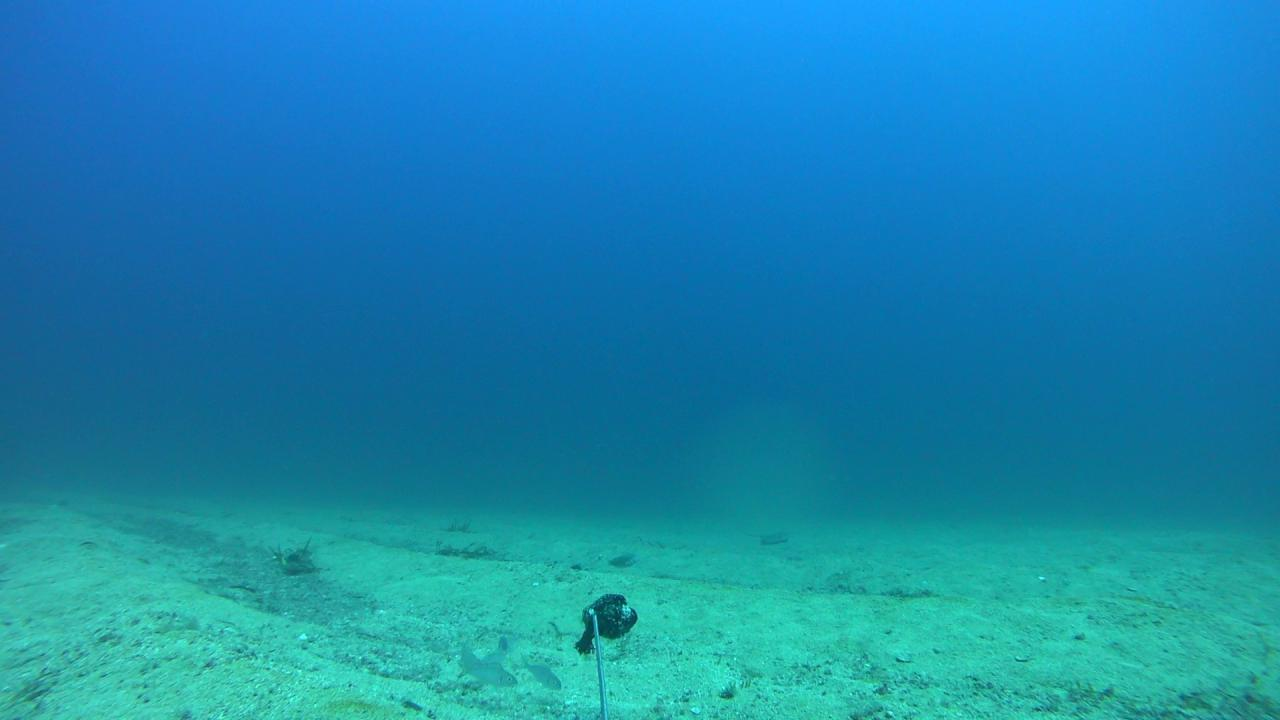pagellus: (452, 664, 522, 686), (518, 657, 561, 691)
